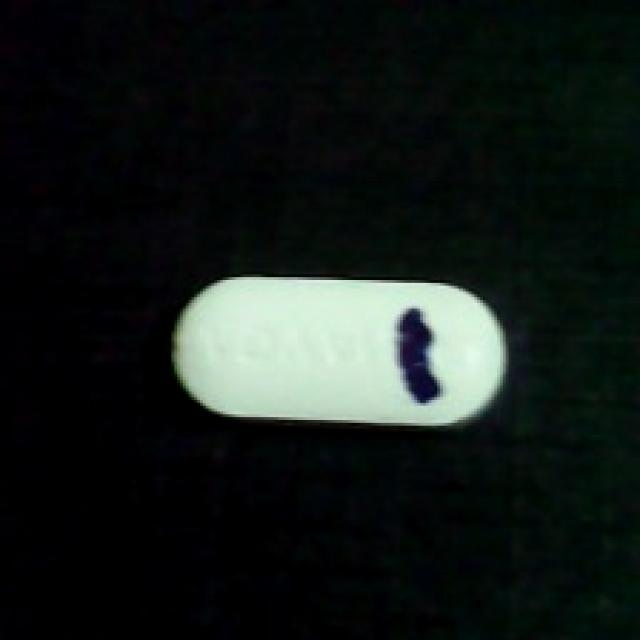defected: (166, 274, 511, 437)
